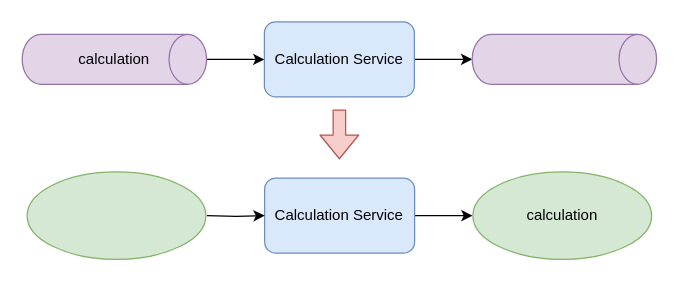
This 679x281 diagram has some shape labels left out. Each missing label, with the box of its shape:
payment: (471, 33, 657, 84)
valid claim: (26, 171, 206, 259)
